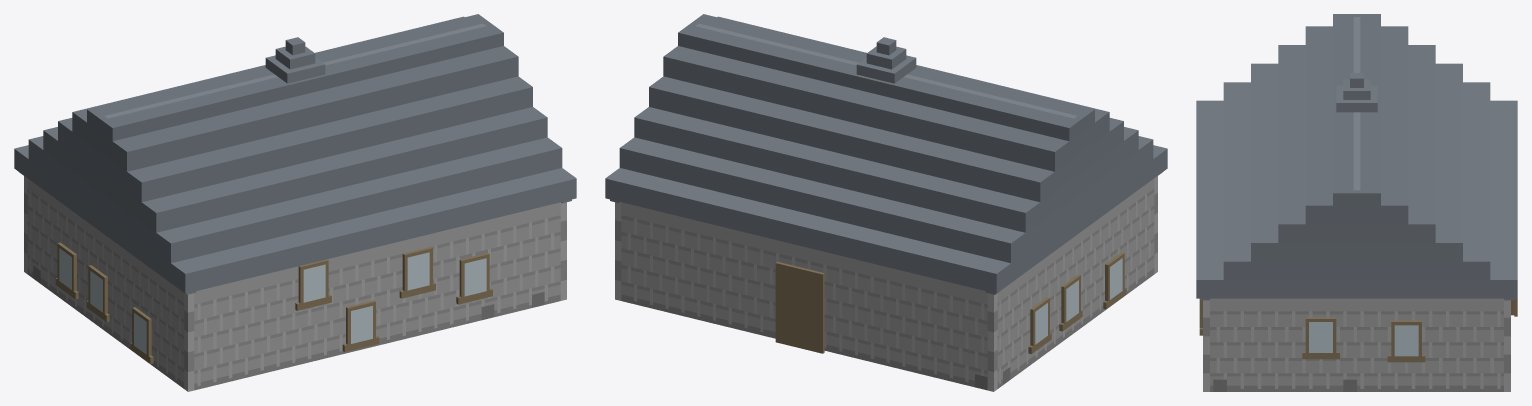
File: gran_catedral_02.glb
3 views of the same model, side by side, from view 1: azimuth 30°, elevation 25°; view 2: azimuth 150°, elevation 25°; view 3: azimuth 270°, elevation 25° (orthographic). The views are drawn at different scales.
Visible parts, largest first — view 1: gran_catedral_02; view 2: gran_catedral_02; view 3: gran_catedral_02.
Part boxes in pixels (x1,y1,x2,y2): gran_catedral_02: [14, 14, 576, 391]; gran_catedral_02: [605, 14, 1167, 391]; gran_catedral_02: [1196, 14, 1517, 391].
Size of the model in its own units: 12.4 by 7.4 by 9.4.
